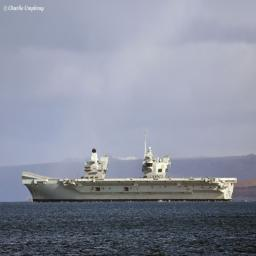Portanaves: (22, 131, 239, 205)
